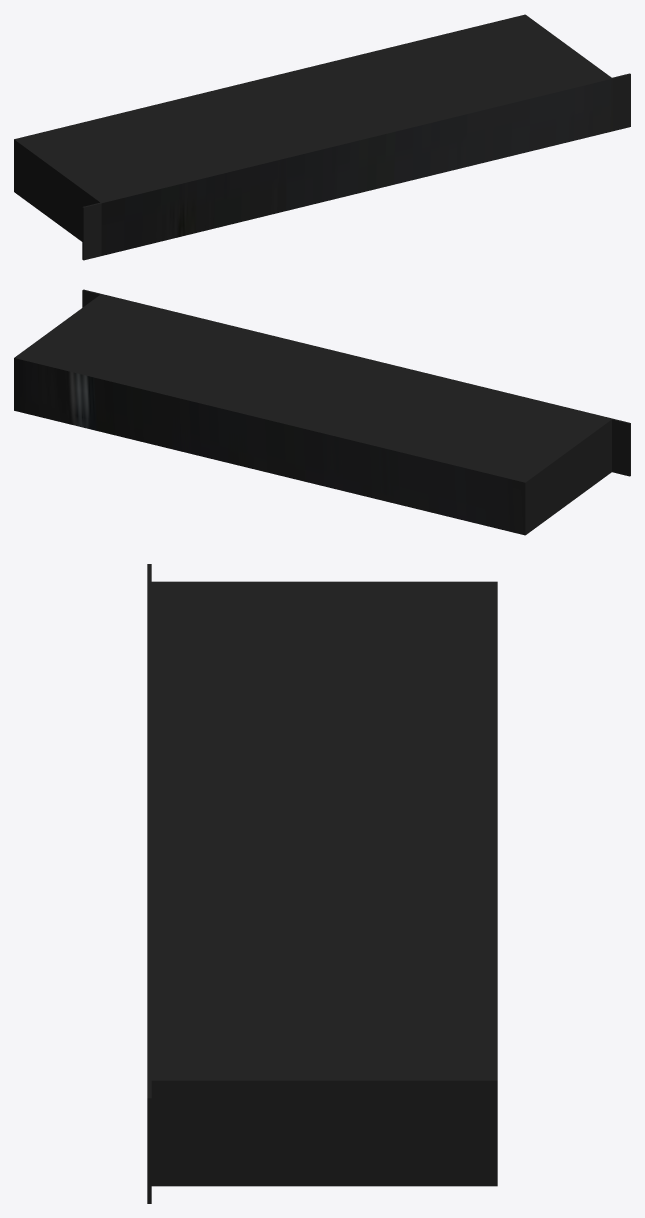
File: SEDNA 19 1U RACK MOUNTED USB HUB.gltf
The picture shows the model from 3 angles, top to bottom: view 1: azimuth 30°, elevation 25°; view 2: azimuth 150°, elevation 25°; view 3: azimuth 270°, elevation 25°; orthographic projection. The views are drawn at different scales.
Bounding box in the file's own units: 0.4826 × 0.0444 × 0.1337.
Materials: 2 (1 with a texture image).
